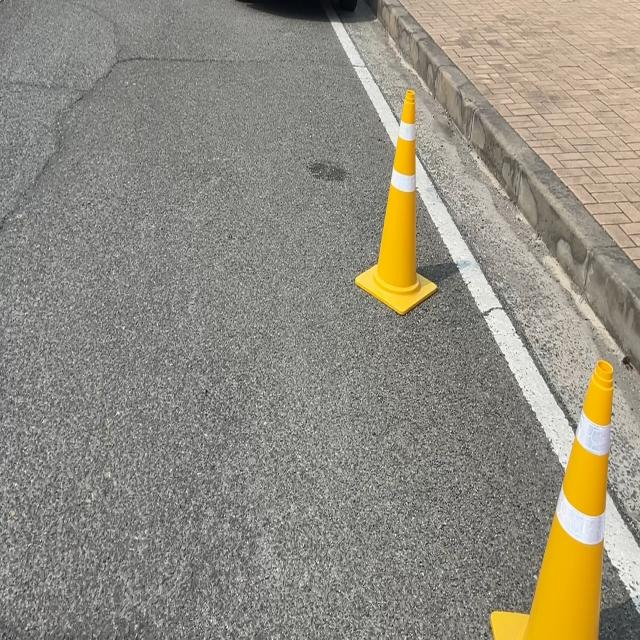y_rub: (492, 359, 615, 640), (356, 88, 437, 314)
